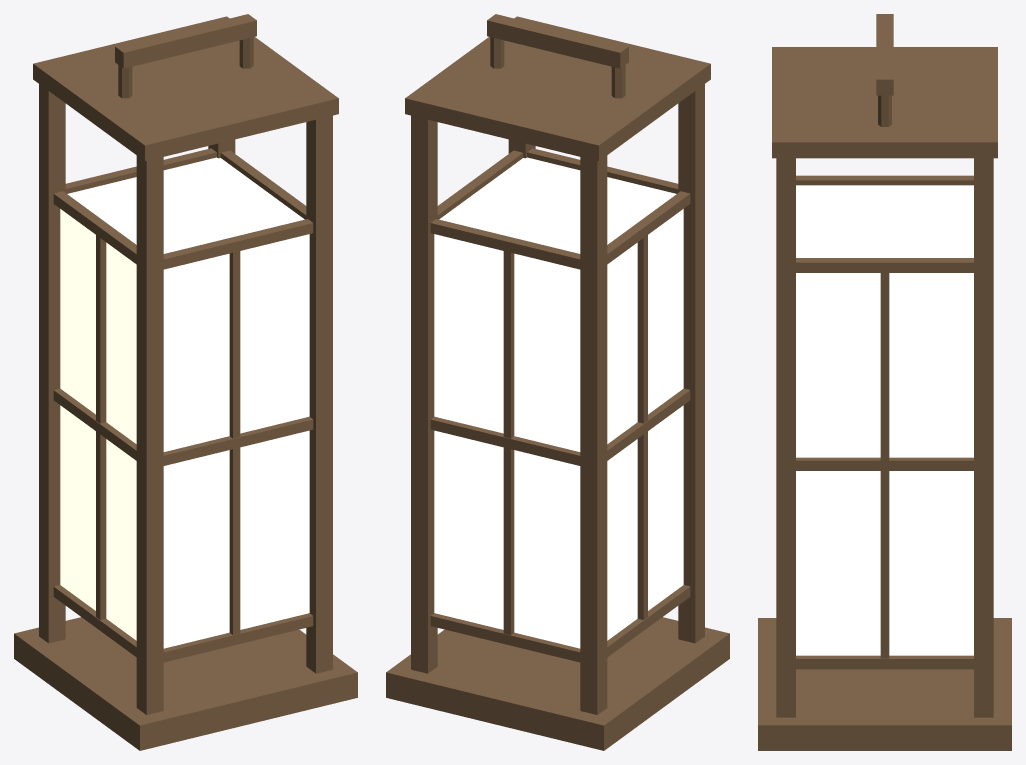
The model's file is jp_andon.glb.
The picture shows the model from 3 angles, left to right: view 1: azimuth 30°, elevation 25°; view 2: azimuth 150°, elevation 25°; view 3: azimuth 270°, elevation 25°; orthographic projection.
Visible parts, largest first — view 1: jp_andon; view 2: jp_andon; view 3: jp_andon.
Boxes of the visible parts, x1,y1,x2,y2 form: jp_andon: [14, 14, 357, 750]; jp_andon: [386, 14, 729, 750]; jp_andon: [758, 14, 1011, 750].
Bounding box in the file's own units: 0.36 × 1.02 × 0.36.
